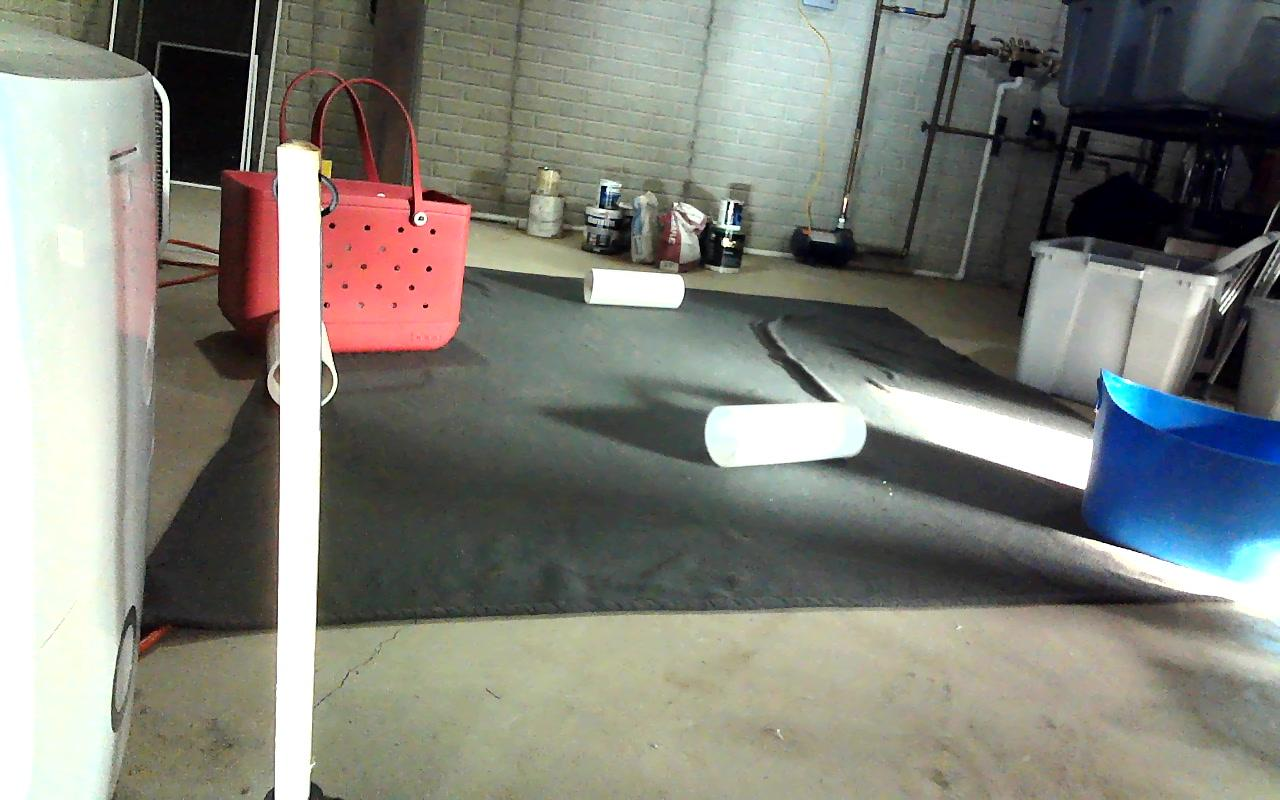coral: (705, 399, 865, 466), (267, 310, 336, 407), (585, 267, 682, 308)
